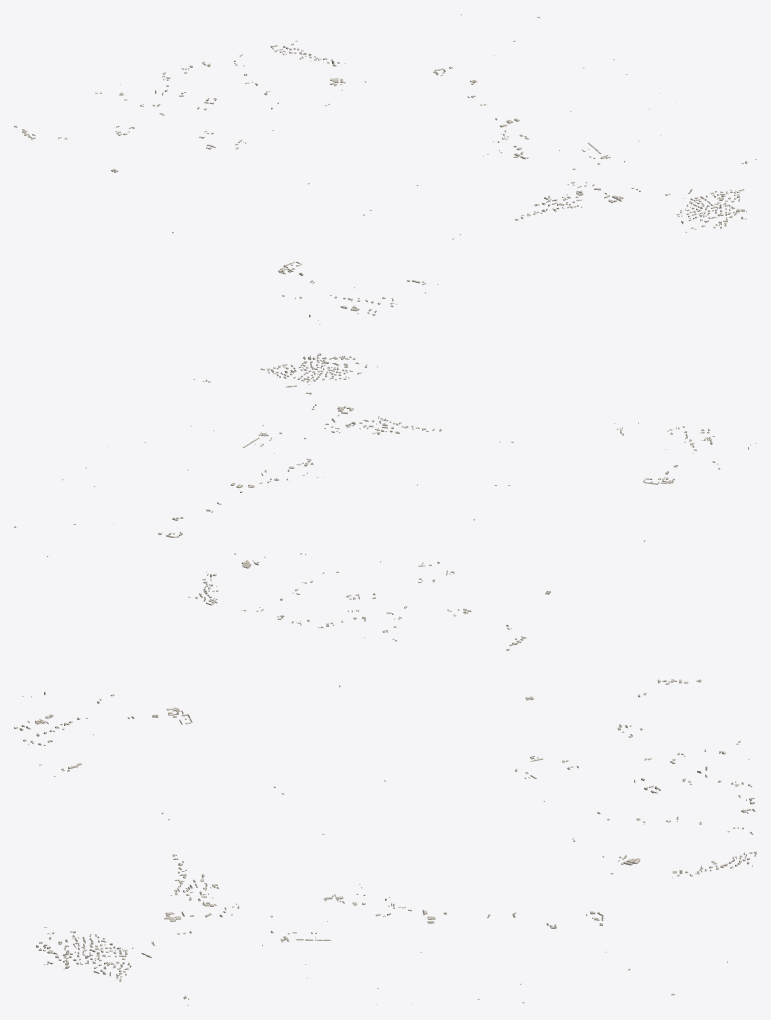
The picture shows the model from 3 angles, top to bottom: view 1: azimuth 30°, elevation 25°; view 2: azimuth 150°, elevation 25°; view 3: azimuth 270°, elevation 25°; orthographic projection. The views are drawn at different scales.
Size of the model in its own units: 3577 by 74.12 by 3553.
